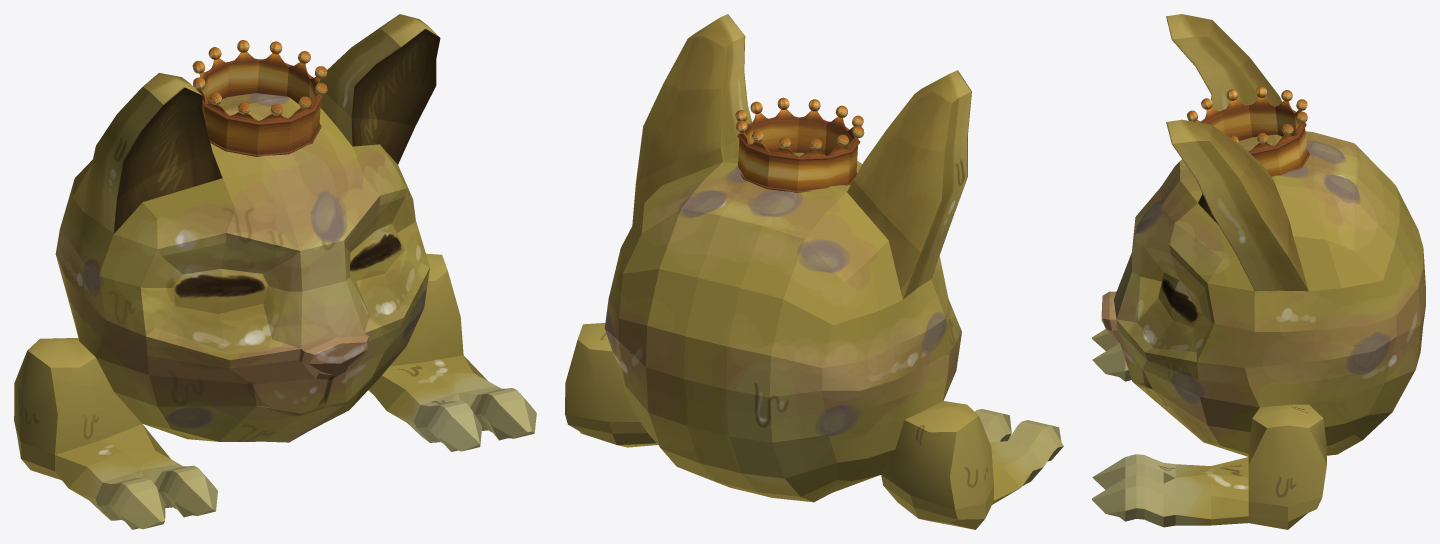
The model's file is MedievalMud.fbx.
3 renders of one model, left to right at view 1: azimuth 30°, elevation 25°; view 2: azimuth 150°, elevation 25°; view 3: azimuth 270°, elevation 25°, orthographic. The views are drawn at different scales.
Visible parts, largest first — view 1: Mud_Medieval, polySurface1; view 2: Mud_Medieval, polySurface1; view 3: Mud_Medieval, polySurface1.
Boxes of the visible parts, x1,y1,x2,y2 form: Mud_Medieval: [14, 14, 536, 529]; polySurface1: [192, 40, 327, 156]; Mud_Medieval: [565, 14, 1063, 529]; polySurface1: [735, 97, 864, 192]; Mud_Medieval: [1092, 14, 1425, 529]; polySurface1: [1187, 86, 1310, 176].
Size of the model in its own units: 115 by 106 by 85.34.
2 materials, 2 textured.
